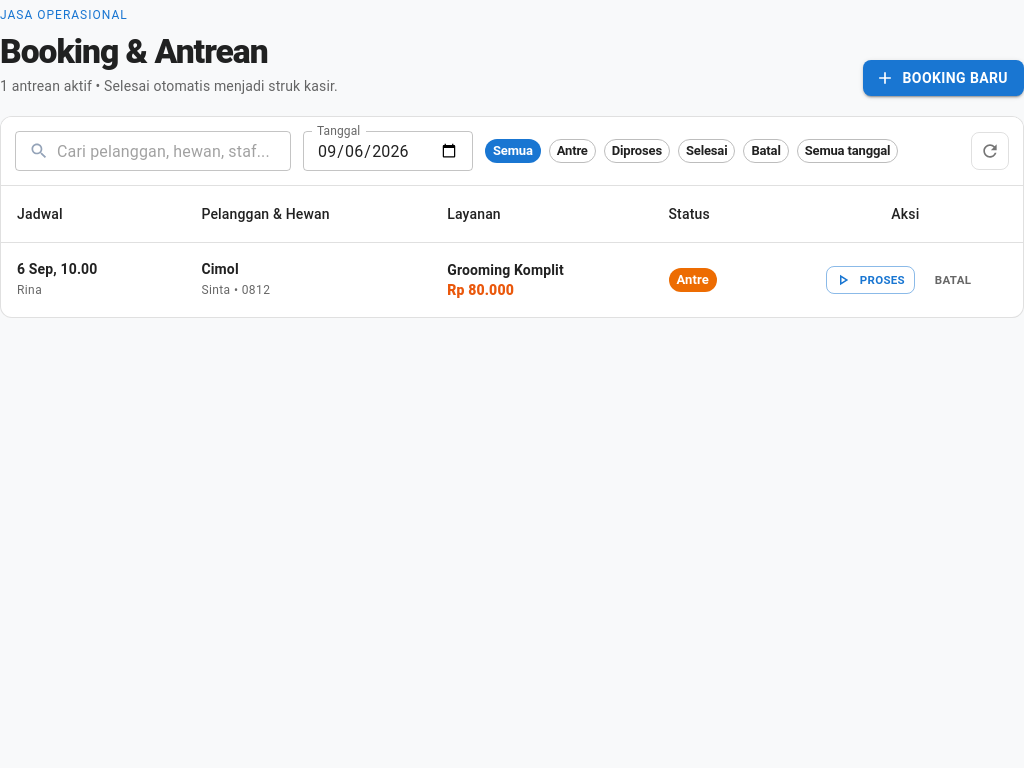
BookingsPage › opens create dialog with dependent pet dropdown
This screenshot has width=1024, height=768.
Expected: the text "Cimol" is shown, [201,261,239,277]
Click the button "Booking Baru". click: click(943, 78)
box: [862,60,1023,96]
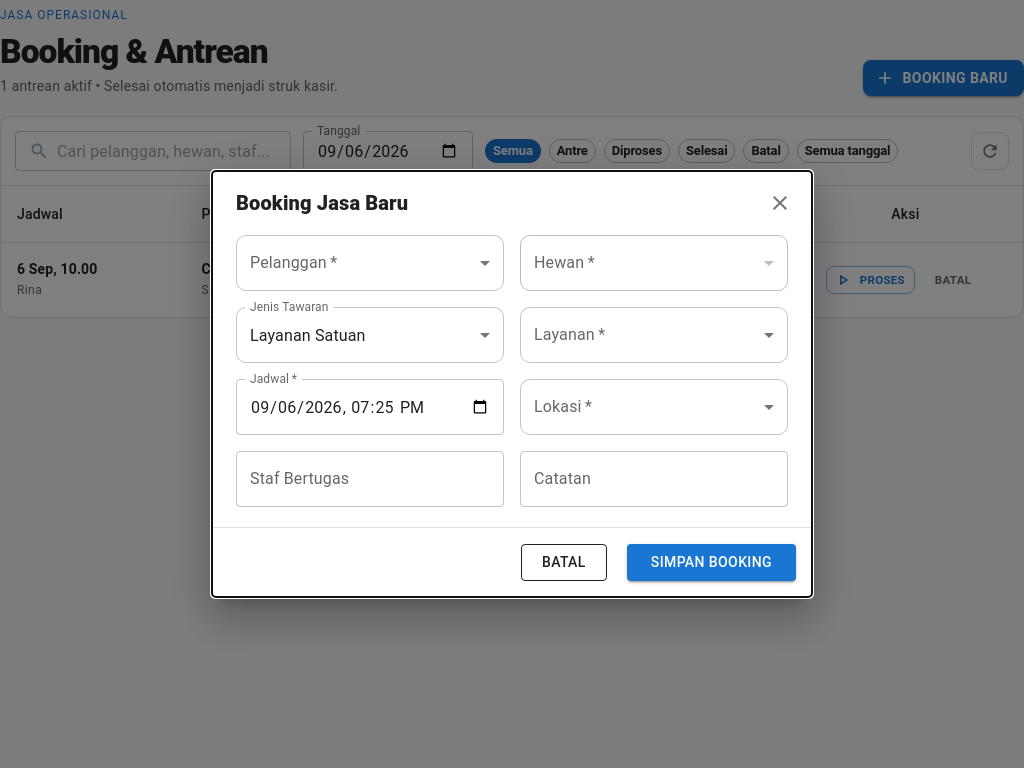
Now the dialog is shown, box [212,171,812,597]
Now the heading "Booking Jasa Baru" is shown, box [212,171,812,235]
